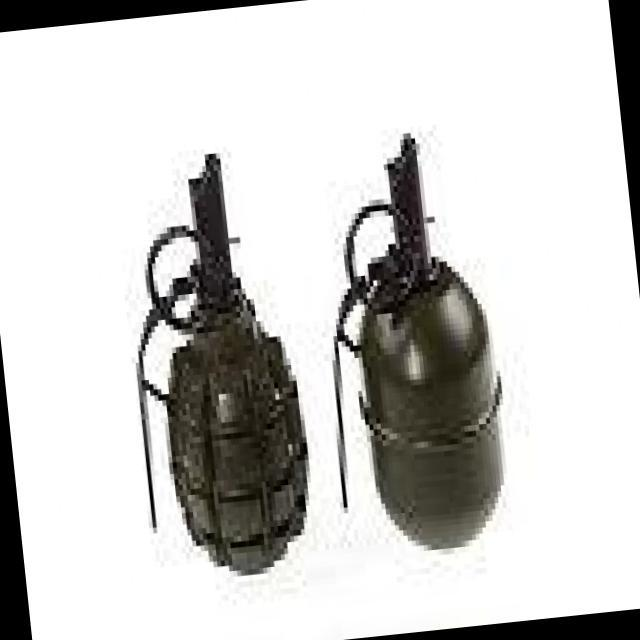grenade: (302, 132, 537, 567), (95, 144, 323, 589)
